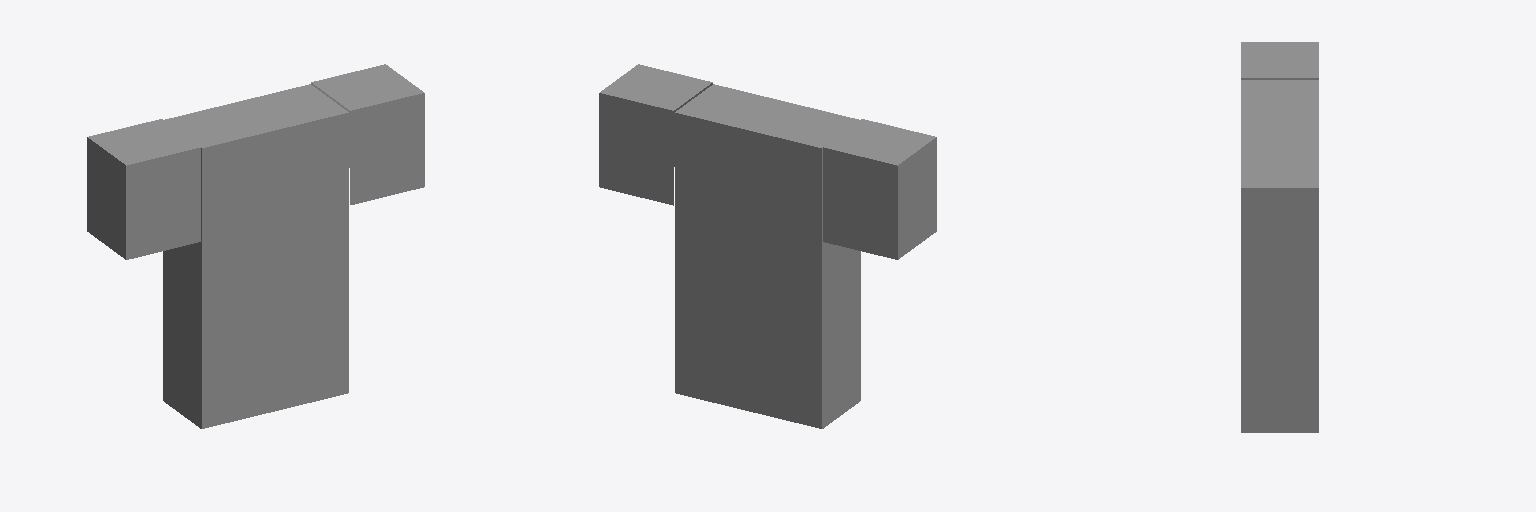
The model's file is armor_chestplate.obj.
3 views of the same model, side by side, from view 1: azimuth 30°, elevation 25°; view 2: azimuth 150°, elevation 25°; view 3: azimuth 270°, elevation 25° (orthographic).
Parts seen in each view (by area): view 1: Cube.004_Cube.007; view 2: Cube.004_Cube.007; view 3: Cube.004_Cube.007.
Boxes of the visible parts, x1=… form: Cube.004_Cube.007: x1=87, y1=64, x2=424, y2=428; Cube.004_Cube.007: x1=599, y1=64, x2=936, y2=428; Cube.004_Cube.007: x1=1241, y1=42, x2=1318, y2=432.
Bounding box in the file's own units: 2.38 × 2.15 × 0.54.